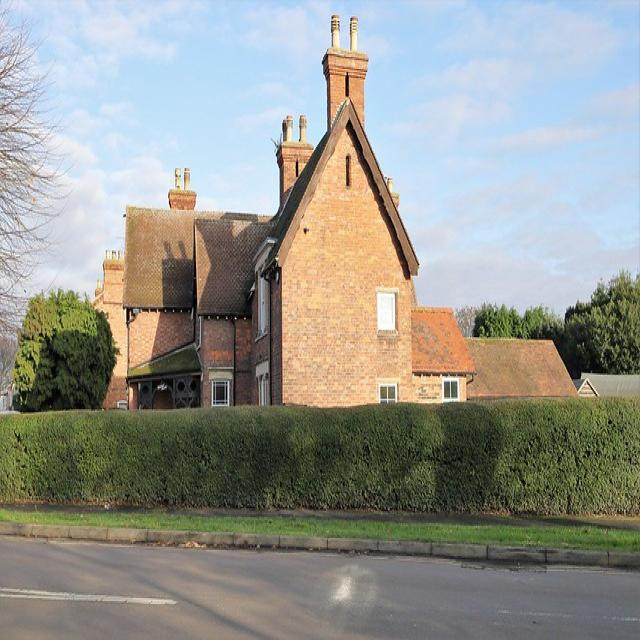building: (83, 38, 480, 410)
